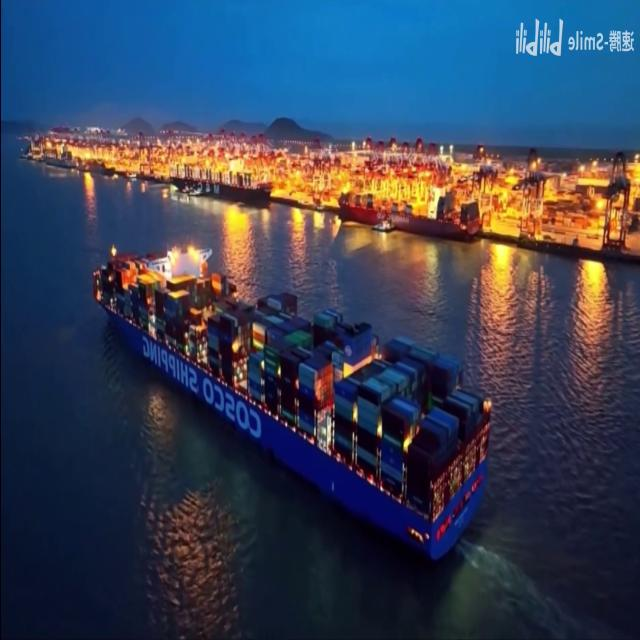cargoship: (91, 246, 497, 560)
